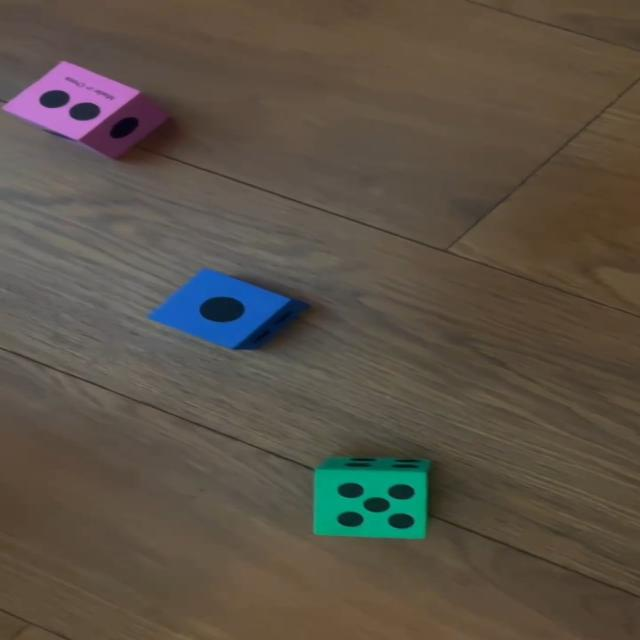blue_block: (150, 268, 308, 350)
